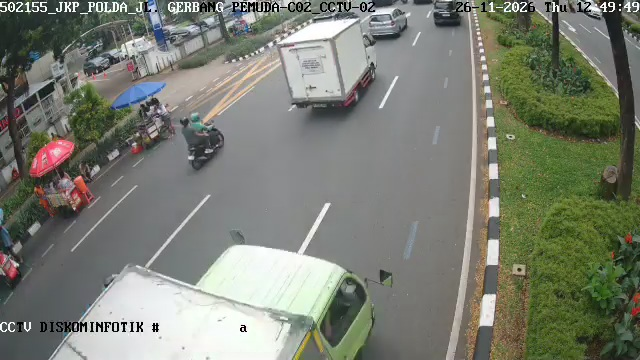Gerobak: (33, 168, 94, 217), (127, 96, 175, 154)
